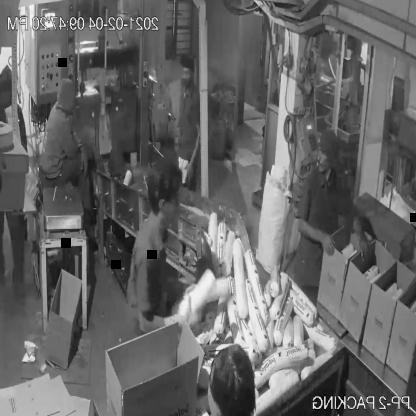glove: (160, 299, 200, 346)
no_glove: (291, 217, 341, 259), (350, 201, 373, 264), (184, 122, 203, 188), (72, 136, 92, 180)
